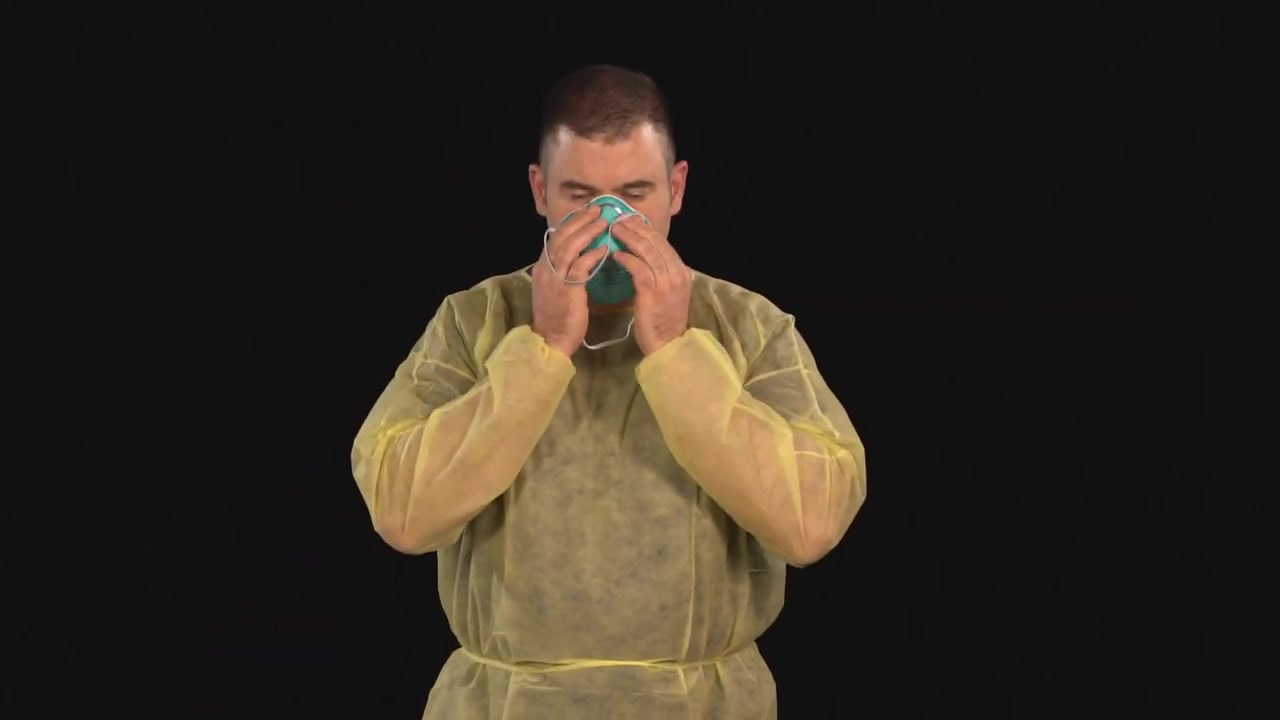Coverall: (411, 272, 833, 720)
with_mask: (557, 181, 650, 307)
